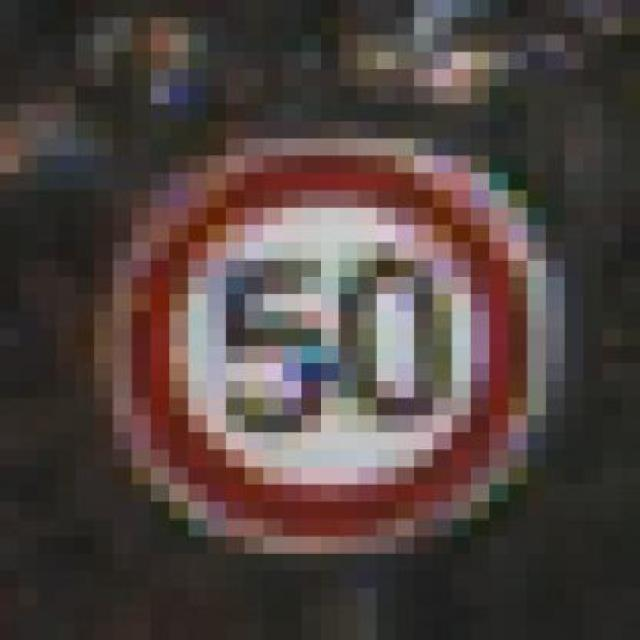50 mph speed limit: (76, 103, 564, 554)
